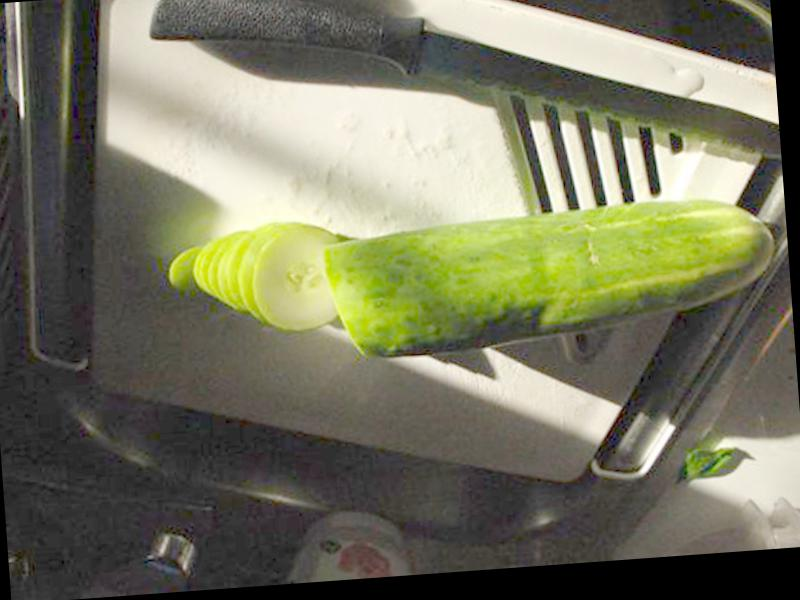Cucumber: (318, 192, 780, 361)
